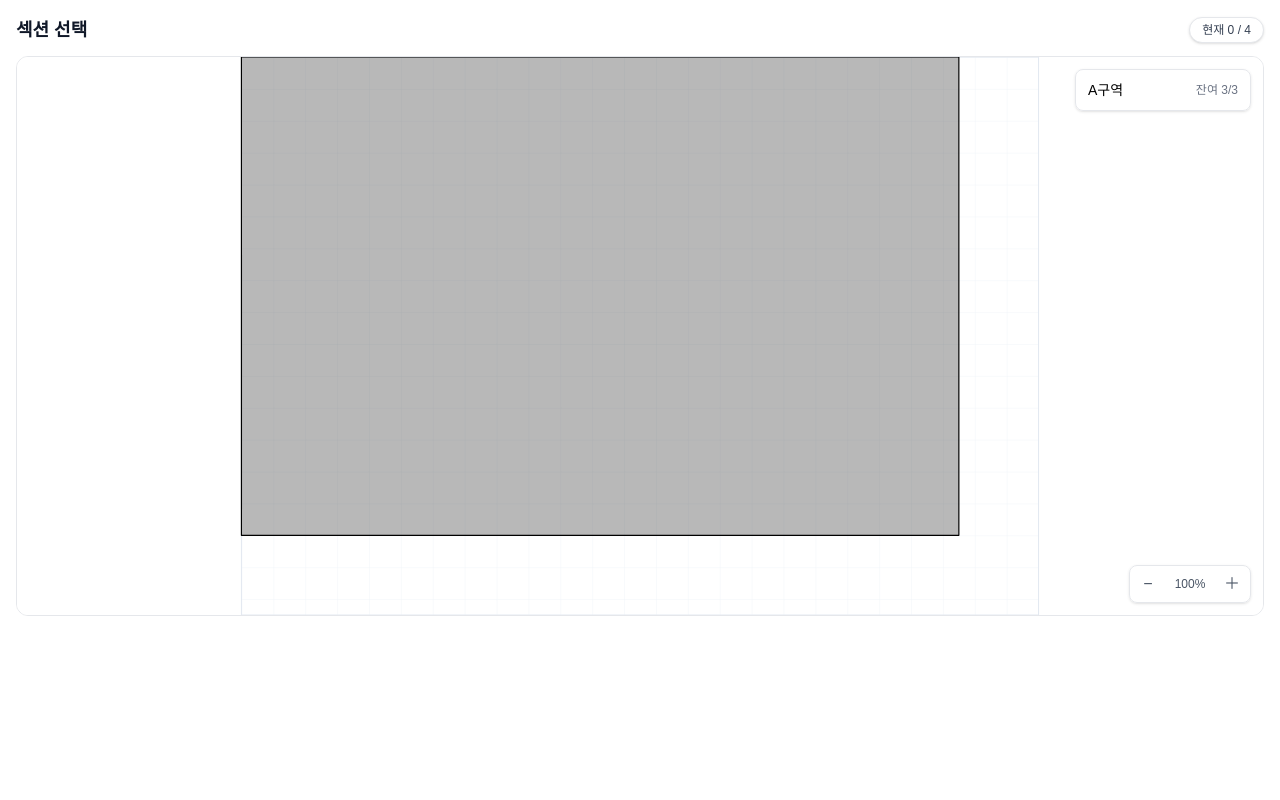
Test: 좌석이 작으면 손가락으로 누를 수 있는 크기까지 확대해서 시작한다
The image size is (1280, 800).
expect the text "현재 0 / 4" is shown: met, box left=1189, top=17, right=1264, bottom=43
Click the button "A구역 잔여 3/3" at {"x": 1163, "y": 90}, box left=1080, top=74, right=1246, bottom=106
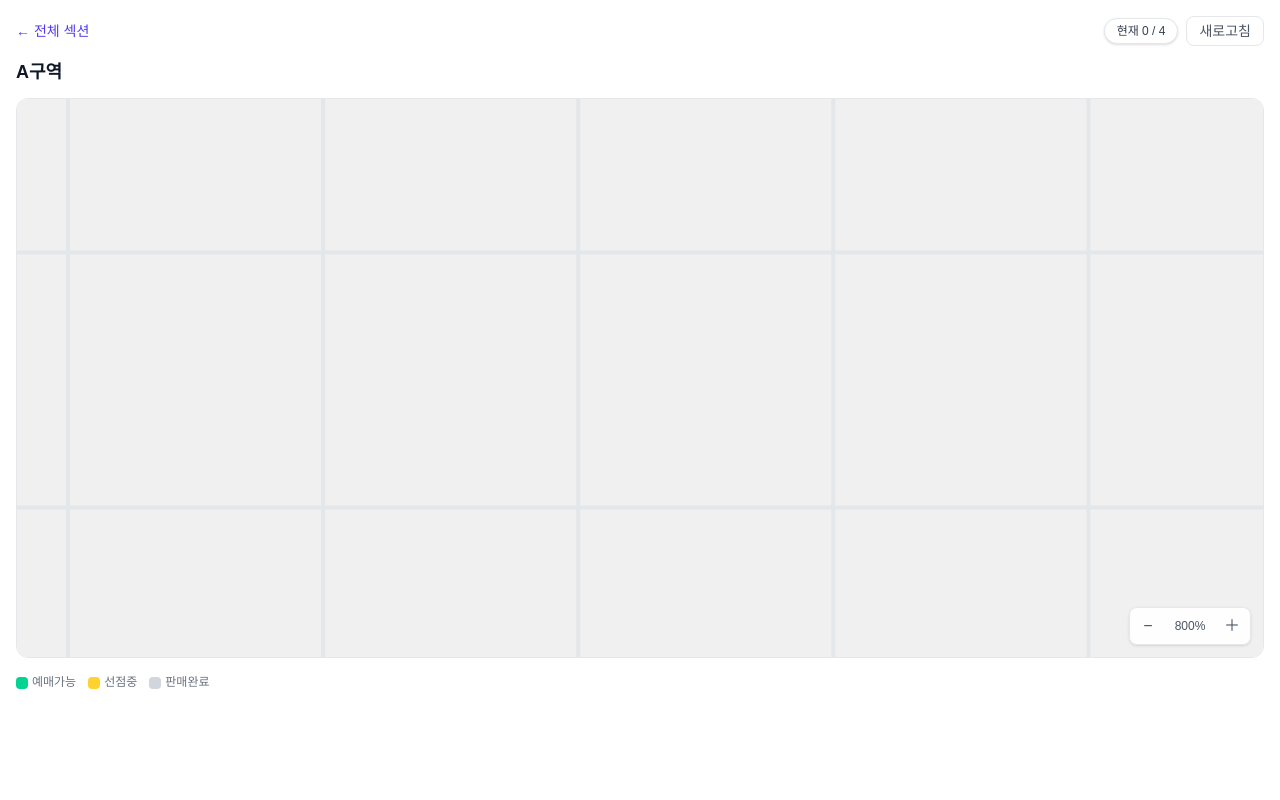
expect the button titled "뷰 초기화" reads "800%": met, box left=1166, top=618, right=1214, bottom=634
